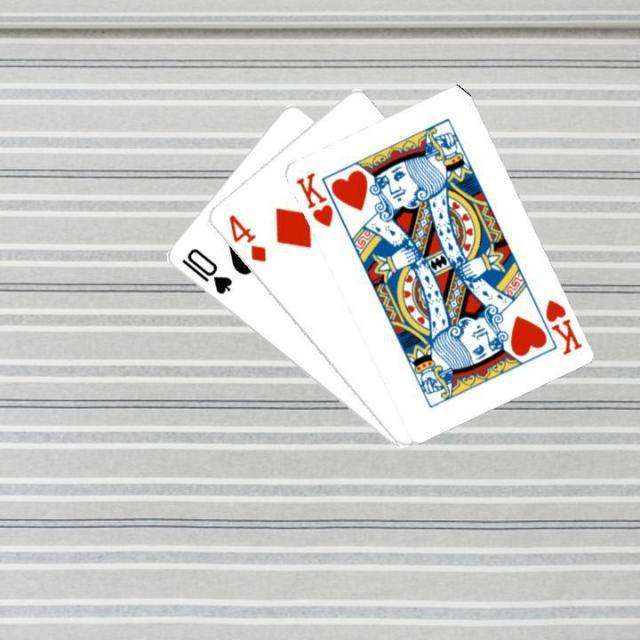10S: (177, 243, 234, 297)
4D: (224, 211, 268, 265)
KH: (291, 168, 335, 230), (541, 295, 583, 357)
